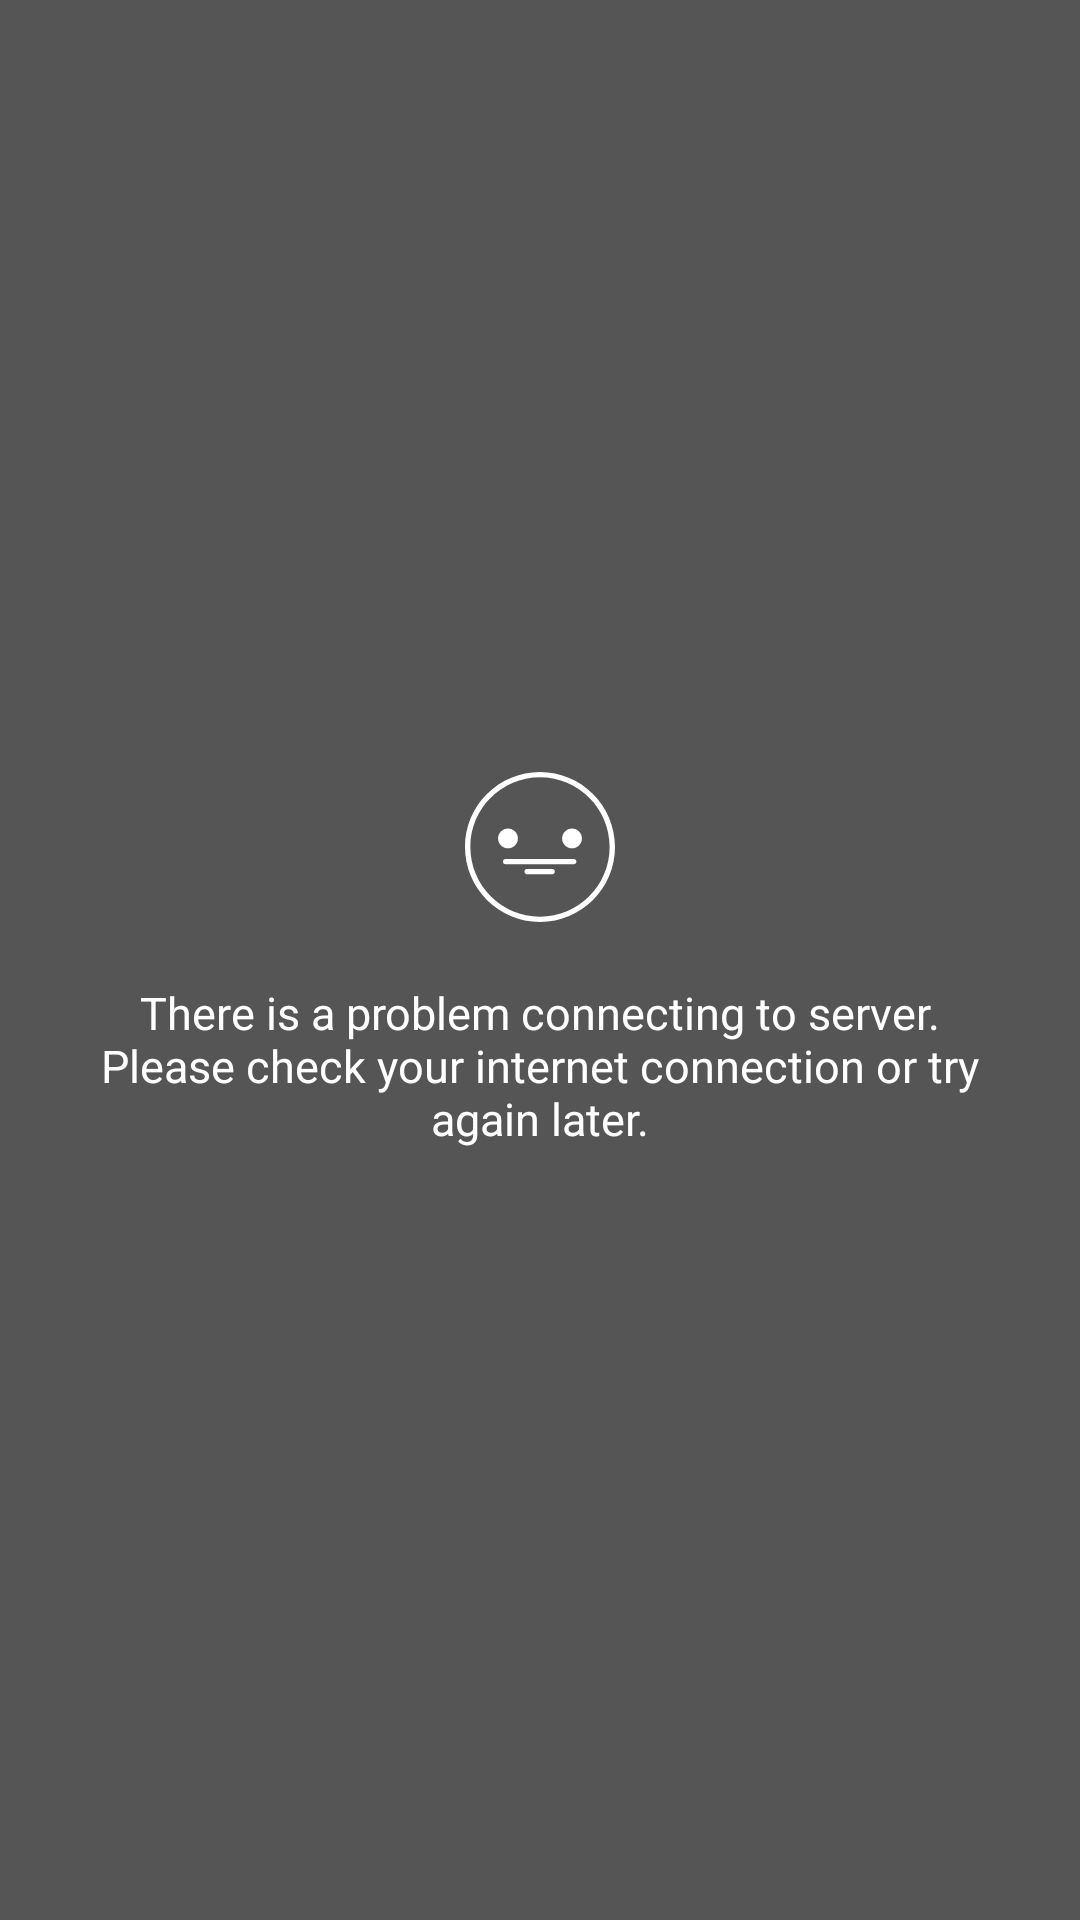

Named icons in this screenshot (1080x1920) and their centers, (x=x, y=y):
confused emoji: (x=540, y=847)
